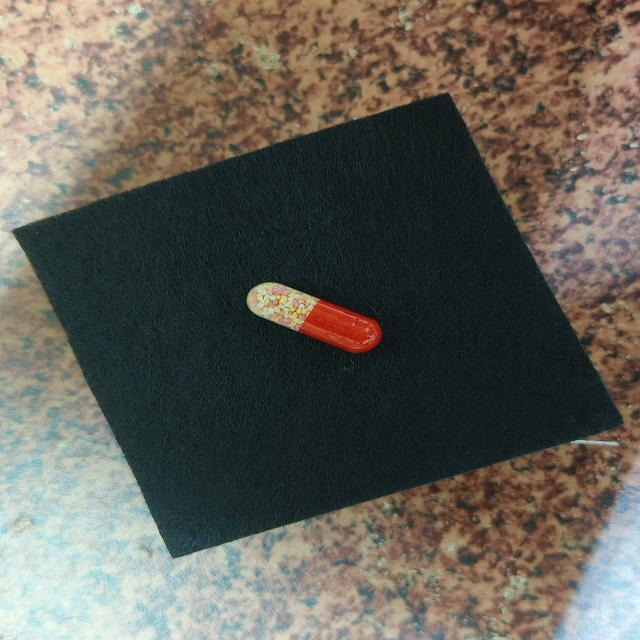Intact Capsule: (247, 282, 382, 353)
